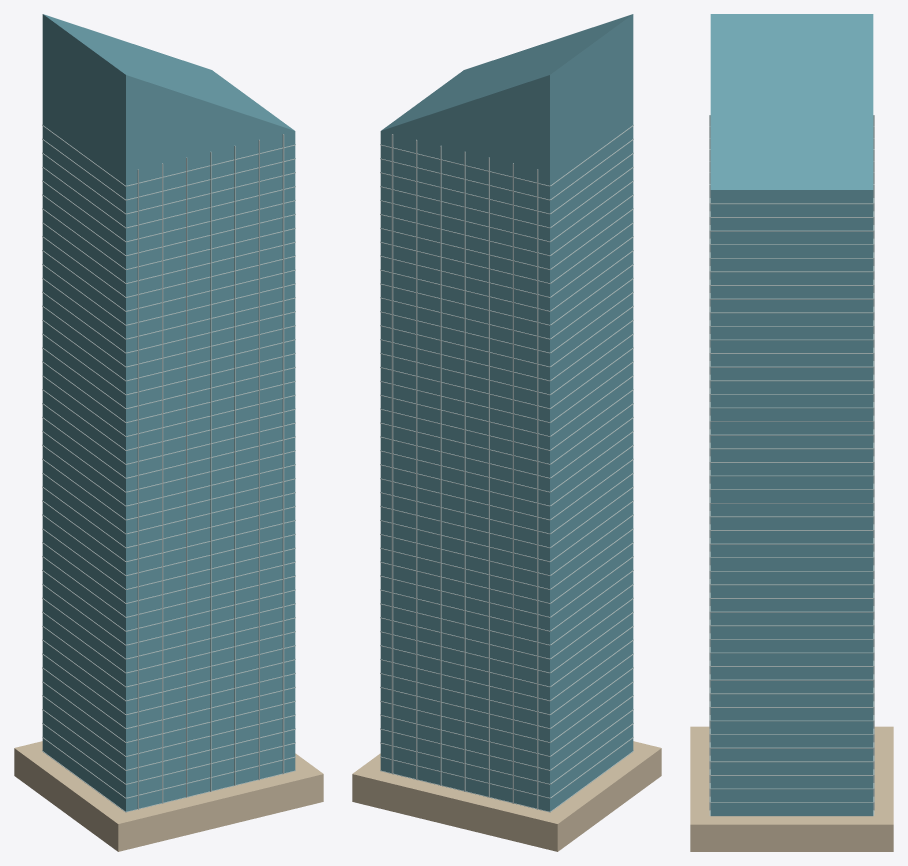
Rendered from bfc-n2.glb.
3 renders of one model, left to right at view 1: azimuth 30°, elevation 25°; view 2: azimuth 150°, elevation 25°; view 3: azimuth 270°, elevation 25°, orthographic. The views are drawn at different scales.
Visible parts, largest first — view 1: bfc-n2; view 2: bfc-n2; view 3: bfc-n2.
Boxes of the visible parts, x1,y1,x2,y2 form: bfc-n2: [14, 14, 323, 851]; bfc-n2: [352, 14, 661, 851]; bfc-n2: [690, 14, 893, 851].
Size of the model in its own units: 23.9 by 85 by 20.95.
